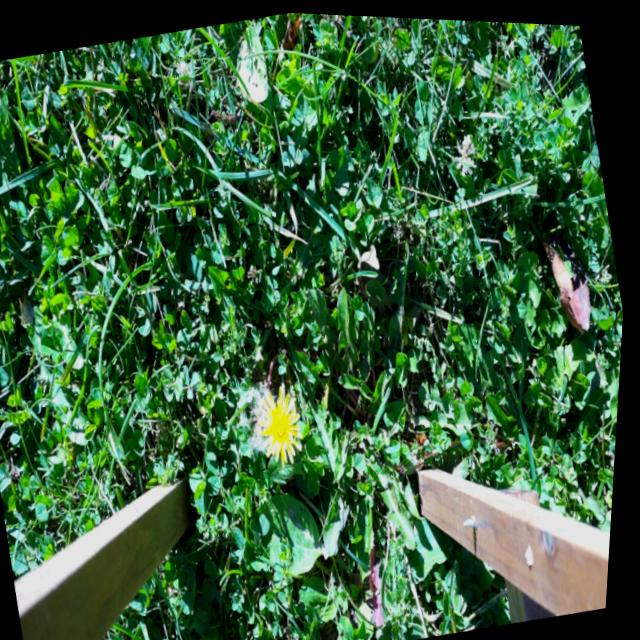base: (277, 330, 303, 366)
